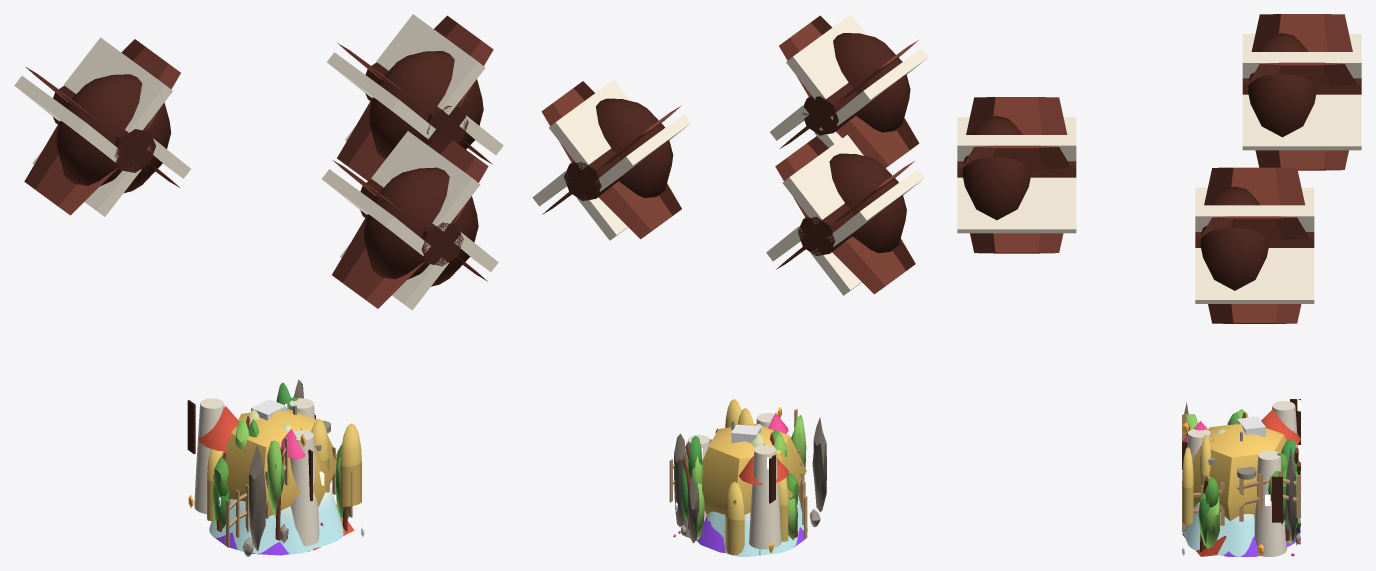
Rendered from ile-vents.glb.
3 renders of one model, left to right at view 1: azimuth 30°, elevation 25°; view 2: azimuth 150°, elevation 25°; view 3: azimuth 270°, elevation 25°, orthographic. The views are drawn at different scales.
Visible parts, largest first — view 1: vents_decor, vents_ailes0, vents_ailes2, vents_ailes1, vents_terrain; view 2: vents_decor, vents_ailes0, vents_ailes1, vents_ailes2, vents_terrain; view 3: vents_ailes2, vents_ailes1, vents_ailes0, vents_decor, vents_terrain.
Boxes of the visible parts, x1,y1,x2,y2 form: vents_decor: (187, 379, 364, 556); vents_ailes0: (14, 37, 190, 216); vents_ailes2: (322, 131, 498, 310); vents_ailes1: (327, 14, 503, 181); vents_terrain: (209, 409, 343, 554); vents_decor: (669, 399, 826, 555); vents_ailes0: (766, 135, 924, 295); vents_ailes1: (532, 80, 690, 240); vents_ailes2: (770, 14, 928, 167); vents_terrain: (707, 423, 807, 556); vents_ailes2: (957, 97, 1076, 253); vents_ailes1: (1195, 167, 1314, 323); vents_ailes0: (1242, 14, 1361, 170); vents_decor: (1182, 399, 1300, 556); vents_terrain: (1182, 416, 1300, 556).
Bounding box in the file's own units: 7.1 × 7.99 × 6.8.
